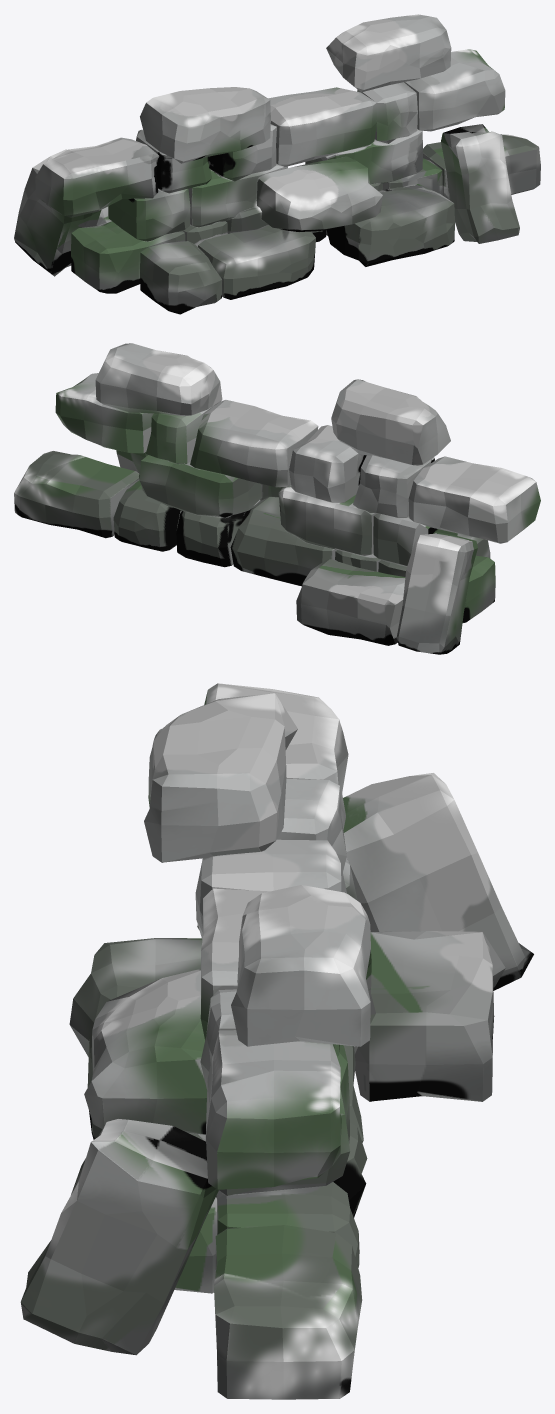
Rendered from Pared.fbx.
3 views of the same model, one above another, from view 1: azimuth 30°, elevation 25°; view 2: azimuth 150°, elevation 25°; view 3: azimuth 270°, elevation 25° (orthographic). The views are drawn at different scales.
Visible parts, largest first — view 1: Cubo.001; view 2: Cubo.001; view 3: Cubo.001.
Boxes of the visible parts, x1,y1,x2,y2 form: Cubo.001: (14, 14, 540, 314); Cubo.001: (14, 343, 540, 654); Cubo.001: (20, 683, 533, 1399).
Size of the model in its own units: 1060 by 406 by 489.
